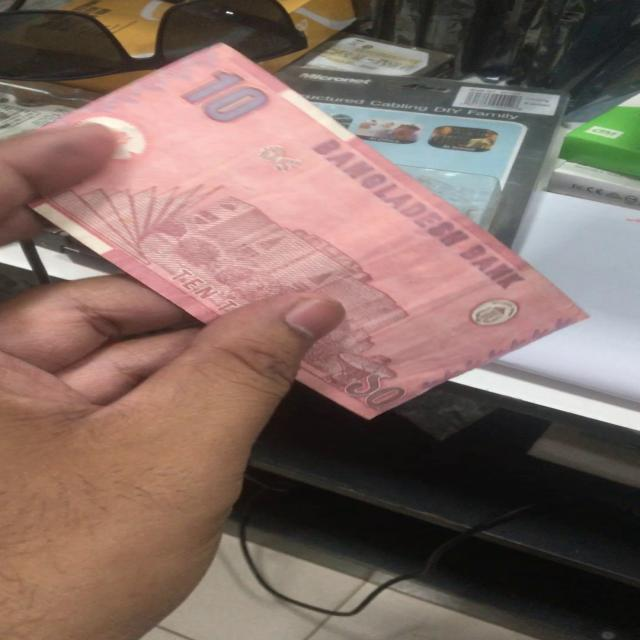Taka: (18, 48, 579, 424)
